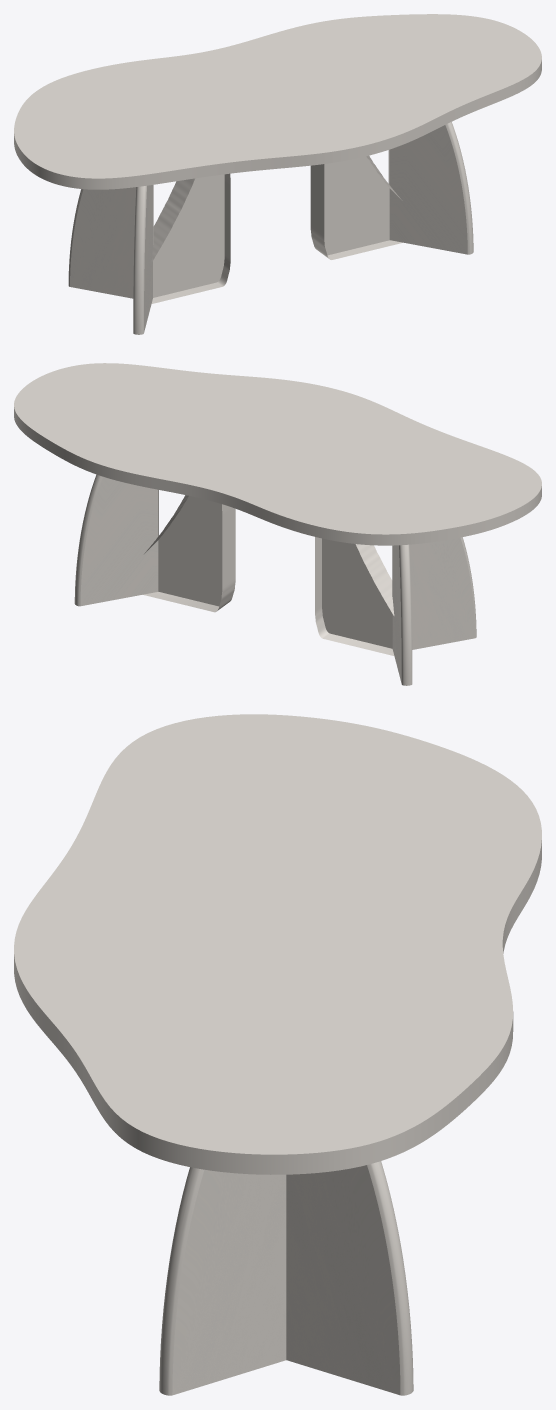
File: pearlwhite_toplast_standard_plane.glb
The picture shows the model from 3 angles, top to bottom: view 1: azimuth 30°, elevation 25°; view 2: azimuth 150°, elevation 25°; view 3: azimuth 270°, elevation 25°; orthographic projection. The views are drawn at different scales.
Visible parts, largest first — view 1: standard_toplast, plane_singleright2, plane_single1, plane_single2, plane_singleleft1, plane_singleright1; view 2: standard_toplast, plane_singleleft2, plane_single2, plane_single1, plane_singleright1, plane_singleleft1; view 3: standard_toplast, plane_singleleft2, plane_singleright2.
Part boxes in pixels (<box>): standard_toplast: <box>14,14,541,189</box>; plane_singleright2: <box>388,122,473,254</box>; plane_single1: <box>151,173,230,303</box>; plane_single2: <box>310,155,402,259</box>; plane_singleleft1: <box>68,185,153,298</box>; plane_singleright1: <box>133,185,153,334</box>; standard_toplast: <box>14,363,541,545</box>; plane_singleleft2: <box>74,474,158,606</box>; plane_single2: <box>143,495,235,612</box>; plane_single1: <box>315,537,394,655</box>; plane_singleright1: <box>392,537,476,649</box>; plane_singleleft1: <box>392,544,412,685</box>; standard_toplast: <box>14,714,541,1174</box>; plane_singleleft2: <box>286,1161,413,1395</box>; plane_singleright2: <box>159,1167,286,1395</box>.
Size of the model in its own units: 7.5 by 2.49 by 3.8.
1 material, 1 textured.
